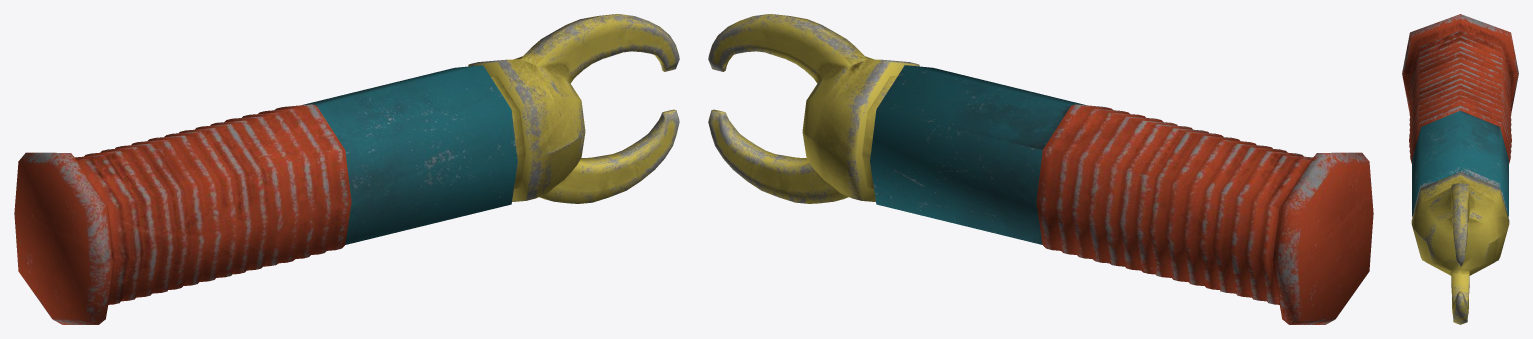
The model's file is Hand_Right.FBX.
3 renders of one model, left to right at view 1: azimuth 30°, elevation 25°; view 2: azimuth 150°, elevation 25°; view 3: azimuth 270°, elevation 25°, orthographic. The views are drawn at different scales.
Parts seen in each view (by area): view 1: Hand_Right; view 2: Hand_Right; view 3: Hand_Right.
Part boxes in pixels (x1=…): Hand_Right: x1=14, y1=14, x2=679, y2=324; Hand_Right: x1=708, y1=14, x2=1373, y2=324; Hand_Right: x1=1402, y1=14, x2=1518, y2=324.
Bounding box in the file's own units: 76.49 × 21.24 × 17.82.
Materials: 1 (1 with a texture image).
